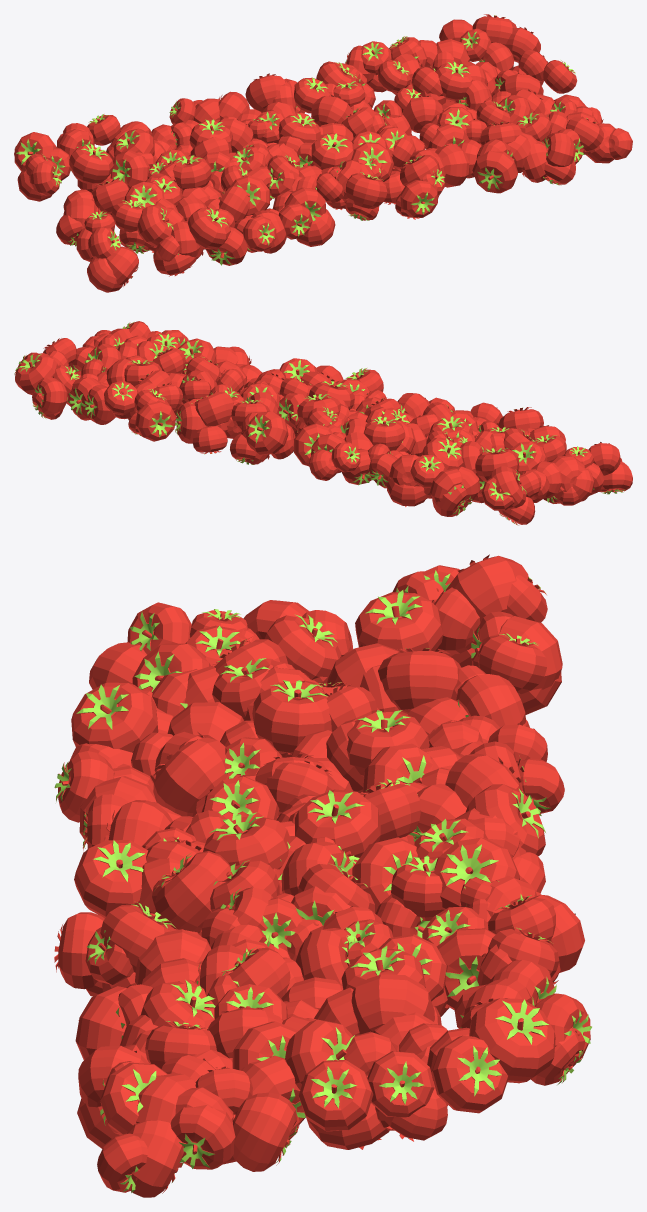
The model's file is tomato.fbx.
3 views of the same model, one above another, from view 1: azimuth 30°, elevation 25°; view 2: azimuth 150°, elevation 25°; view 3: azimuth 270°, elevation 25° (orthographic). The views are drawn at different scales.
Visible parts, largest first — view 1: Tomato_01.156; view 2: Tomato_01.156; view 3: Tomato_01.156.
Part boxes in pixels (bbox=[...]): Tomato_01.156: bbox=[14, 14, 632, 292]; Tomato_01.156: bbox=[14, 321, 632, 525]; Tomato_01.156: bbox=[54, 554, 591, 1197].
Size of the model in its own units: 1311 by 217 by 567.
